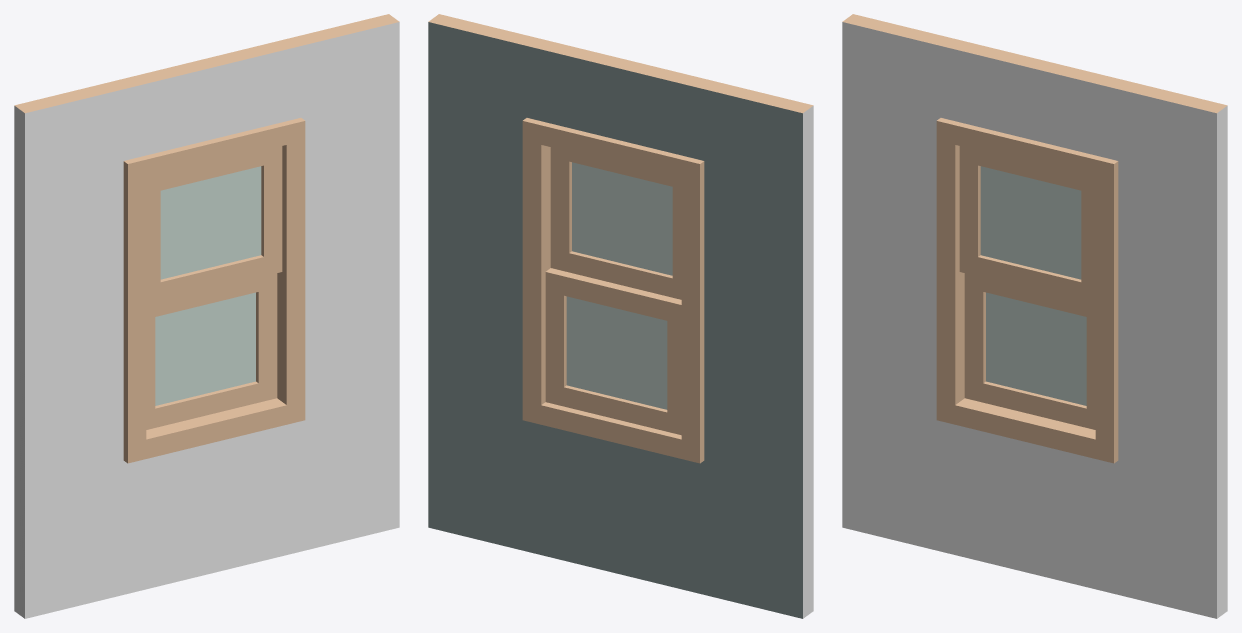
The model's file is wallWindowSlide.glb.
3 views of the same model, side by side, from view 1: azimuth 30°, elevation 25°; view 2: azimuth 150°, elevation 25°; view 3: azimuth 330°, elevation 25° (orthographic).
Visible parts, largest first — view 1: wallWindowSlide(Clone), windowTop, windowBottom; view 2: wallWindowSlide(Clone), windowBottom, windowTop; view 3: wallWindowSlide(Clone), windowTop, windowBottom.
Boxes of the visible parts, left/top/right/bottom form: wallWindowSlide(Clone): left=14, top=14, right=399, bottom=618; windowTop: left=146, top=146, right=282, bottom=304; windowBottom: left=146, top=273, right=277, bottom=429; wallWindowSlide(Clone): left=428, top=14, right=813, bottom=618; windowBottom: left=545, top=268, right=681, bottom=435; windowTop: left=550, top=147, right=681, bottom=299; wallWindowSlide(Clone): left=842, top=14, right=1227, bottom=618; windowTop: left=959, top=146, right=1095, bottom=304; windowBottom: left=964, top=273, right=1095, bottom=429.
Size of the model in its own units: 2.03 by 2.62 by 0.1809.
4 materials, 4 textured.
